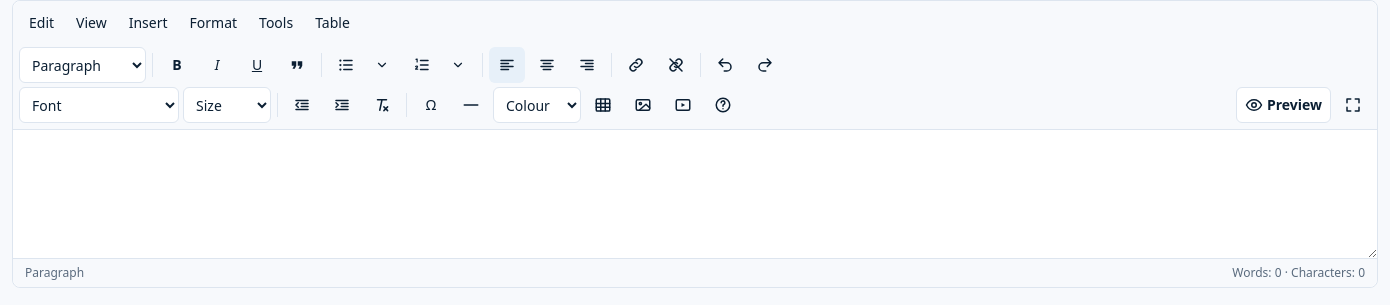
MarkdownTextarea inline formatting › italicises, and inserts a placeholder when nothing is selected
This screenshot has width=1390, height=305.
Click the button named "Italic": coordinates (217, 65) [199,47,235,83]
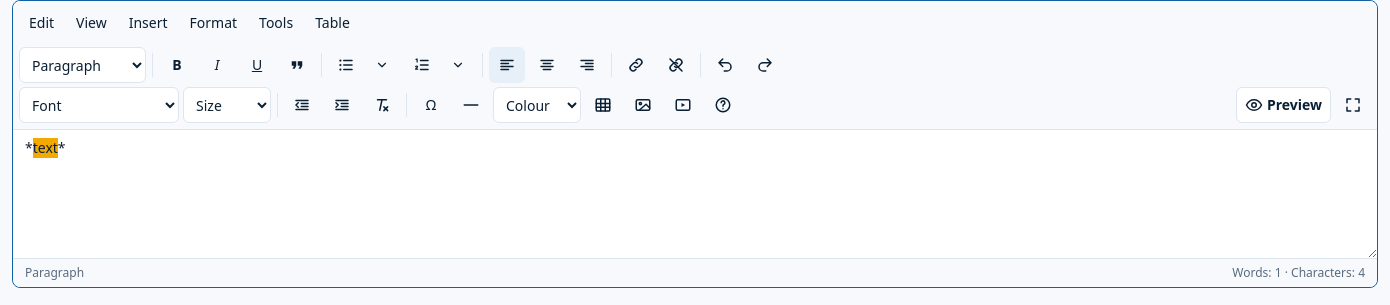
Now the text box named "Body" holds "*text*", box [13,130,1377,258]
